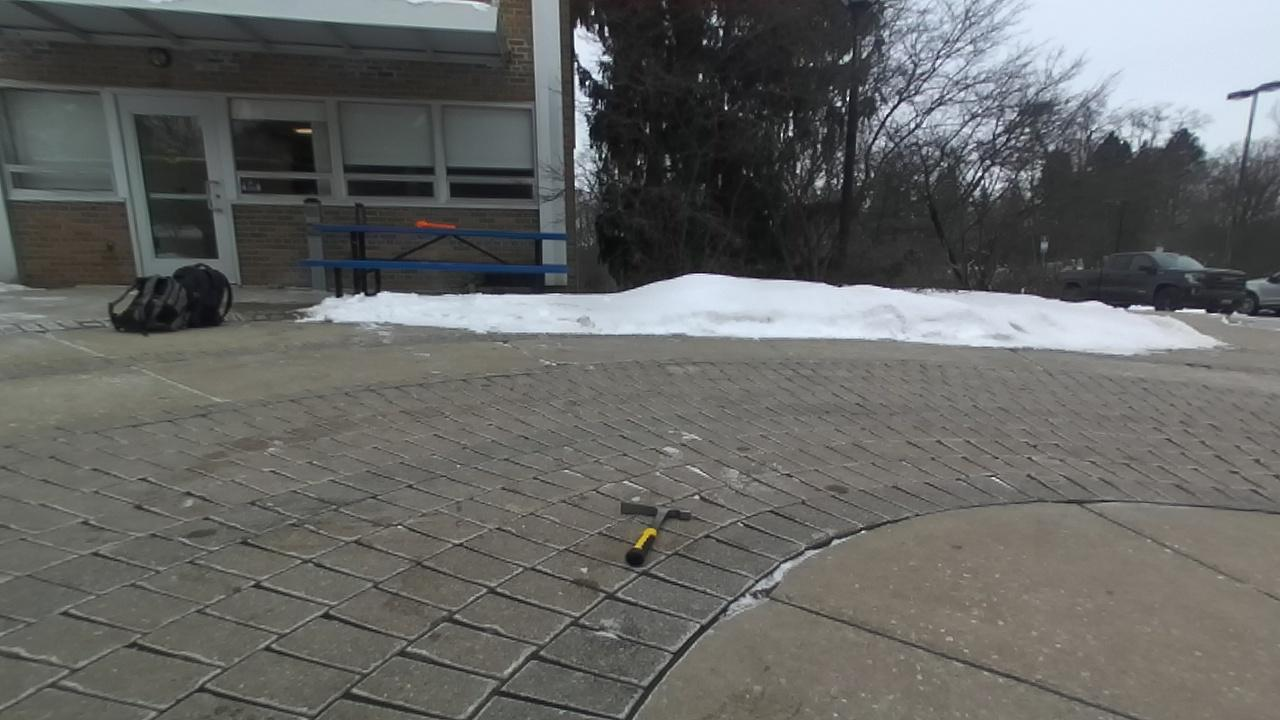mallet: (415, 221, 455, 227)
pick: (620, 502, 691, 566)
